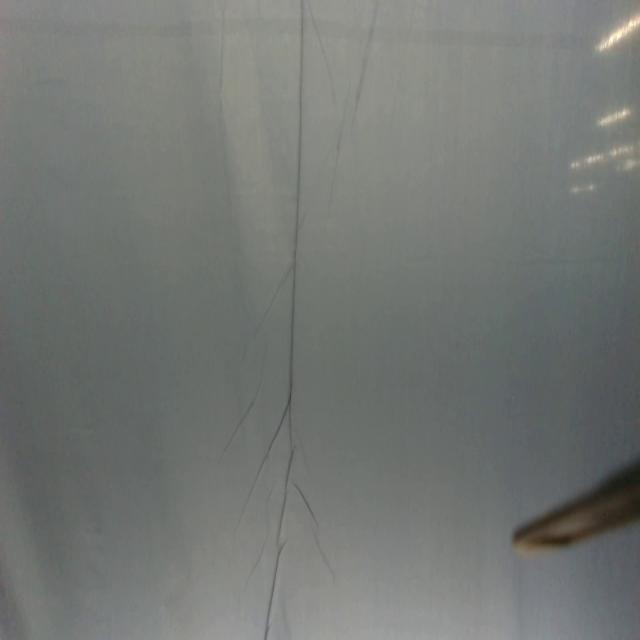crease: (260, 1, 306, 640), (235, 393, 286, 532), (216, 360, 264, 470), (255, 253, 291, 332), (293, 479, 318, 524)
